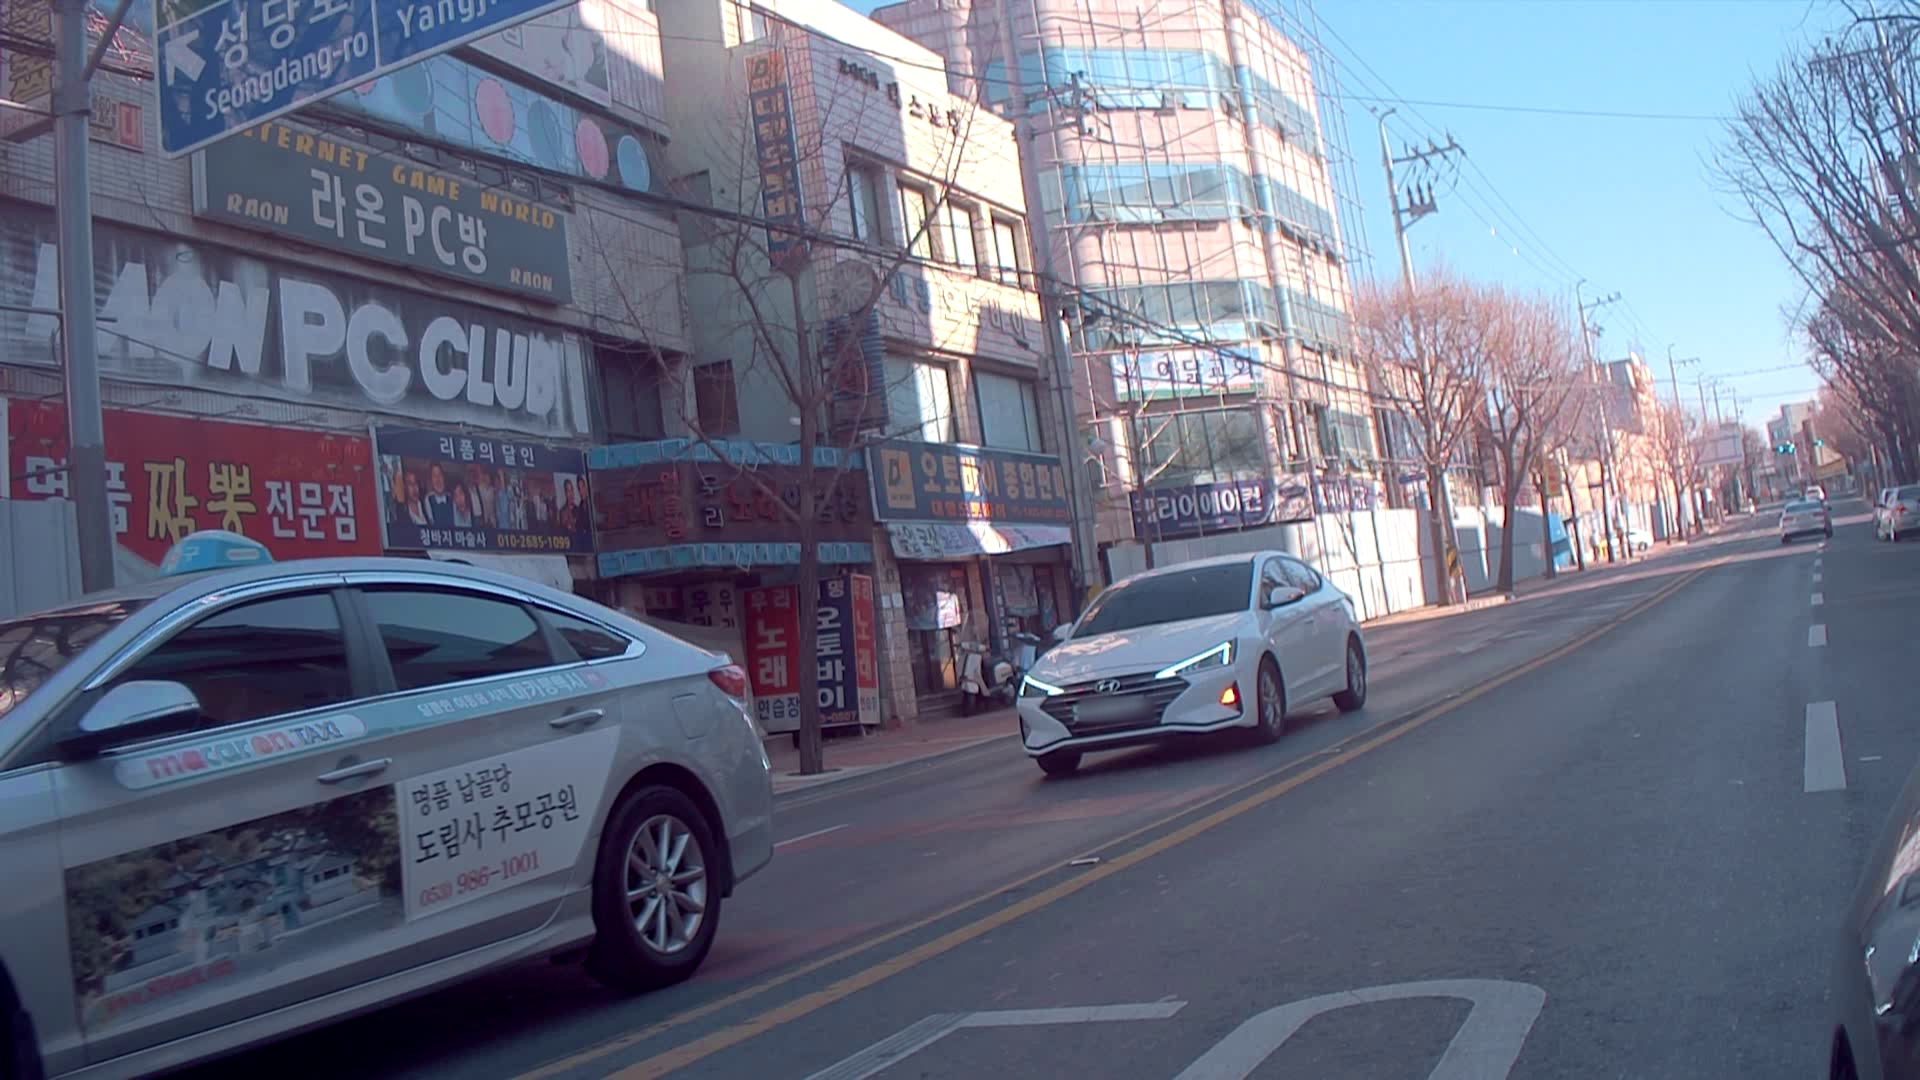trafficLight: (1766, 436, 1832, 458)
